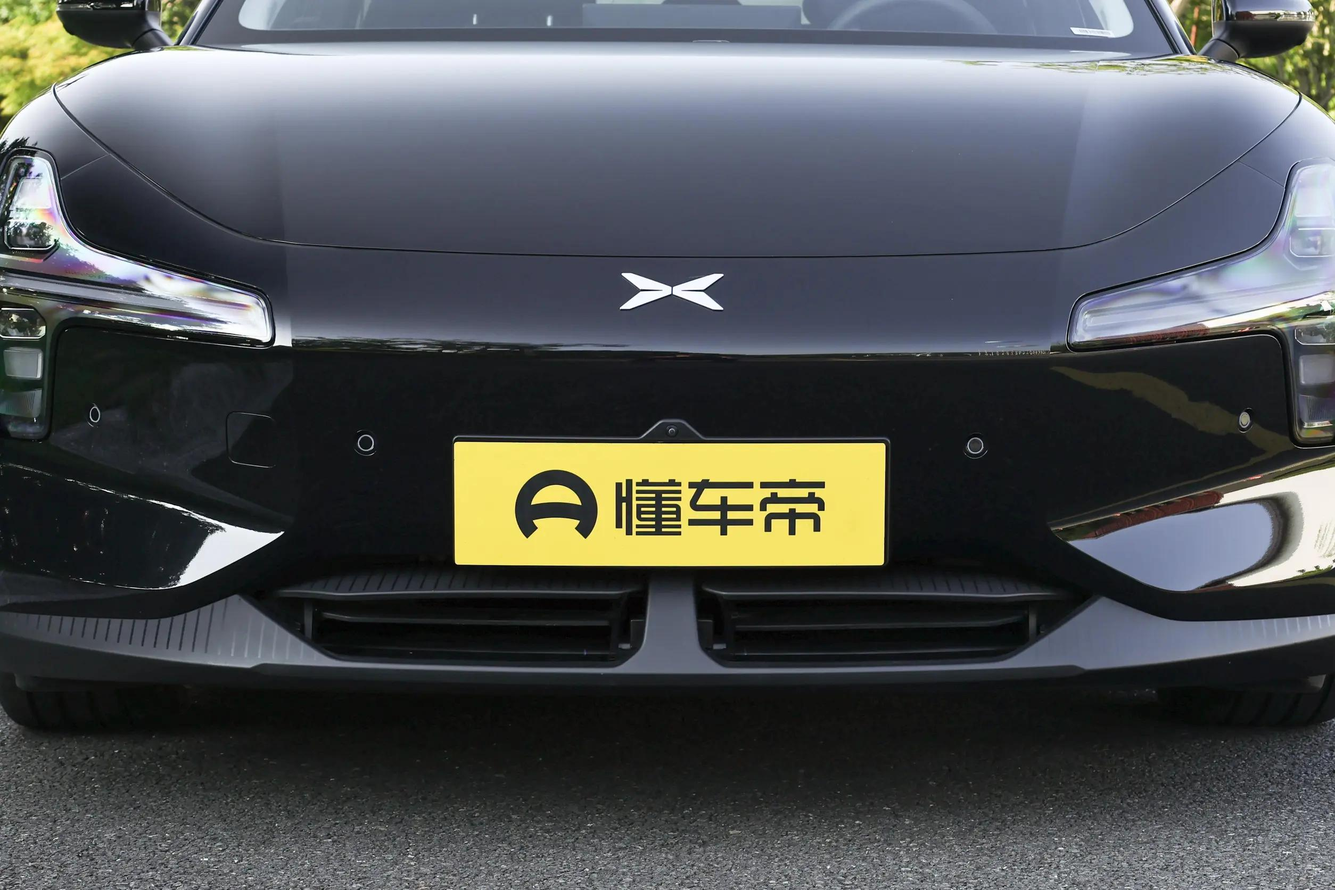XPeng Motors: (619, 273, 723, 310)
